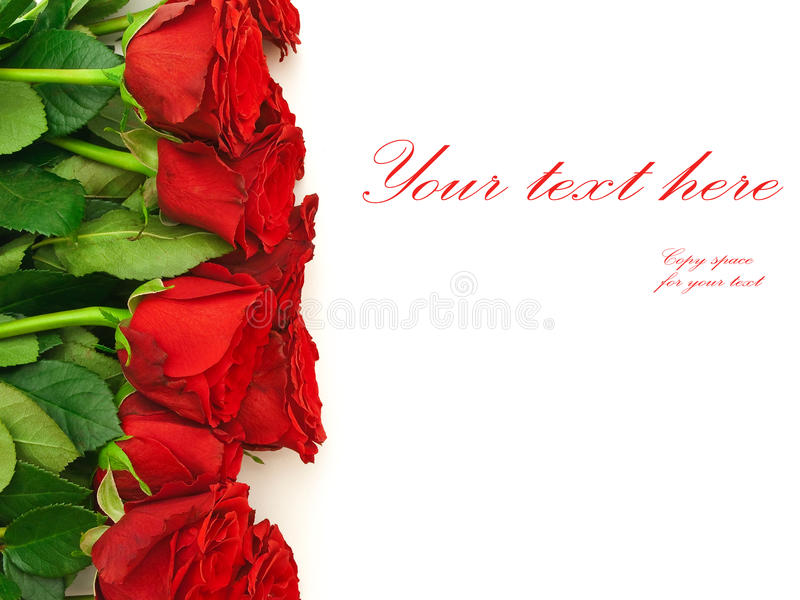RedRose: (150, 19, 298, 150), (173, 131, 336, 243), (120, 465, 292, 569), (173, 293, 282, 422), (99, 396, 247, 466), (282, 341, 337, 463)
